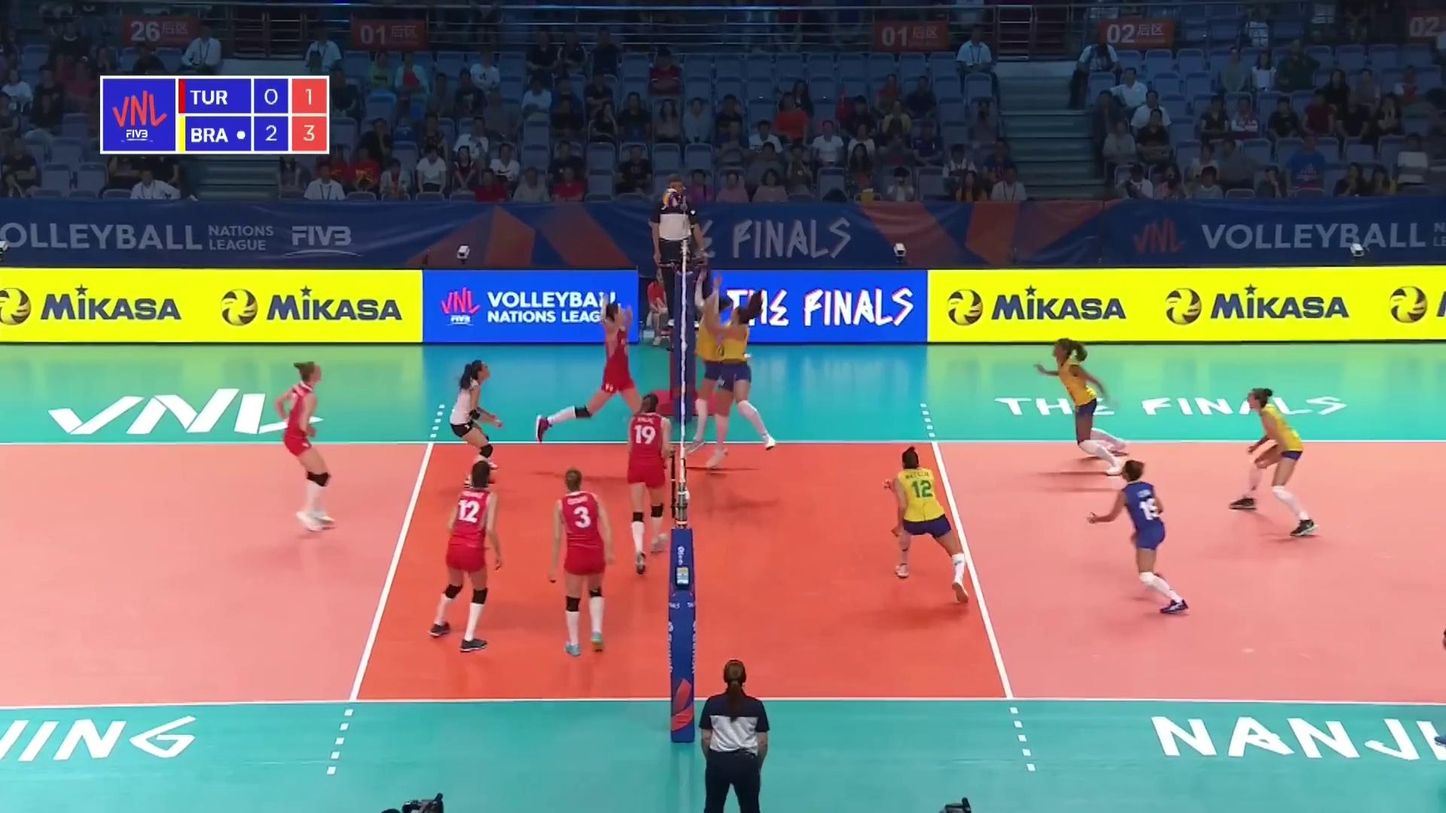player: (534, 297, 663, 454), (1092, 459, 1189, 610), (1228, 386, 1322, 538), (885, 447, 972, 607), (544, 469, 616, 656), (435, 464, 503, 654), (1037, 338, 1126, 473), (687, 281, 753, 455), (709, 296, 774, 470), (278, 359, 340, 534), (623, 391, 669, 575), (447, 359, 504, 487)
refree: (695, 656, 772, 810), (653, 175, 705, 327)
